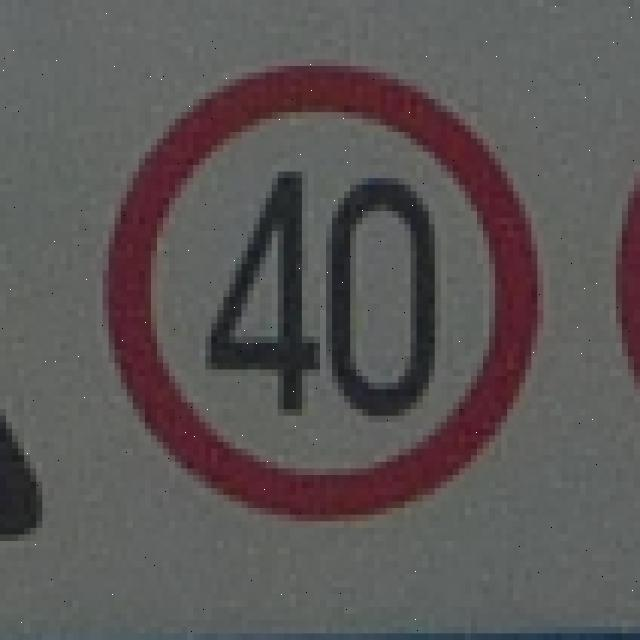speed limit 40: (105, 60, 543, 521)
